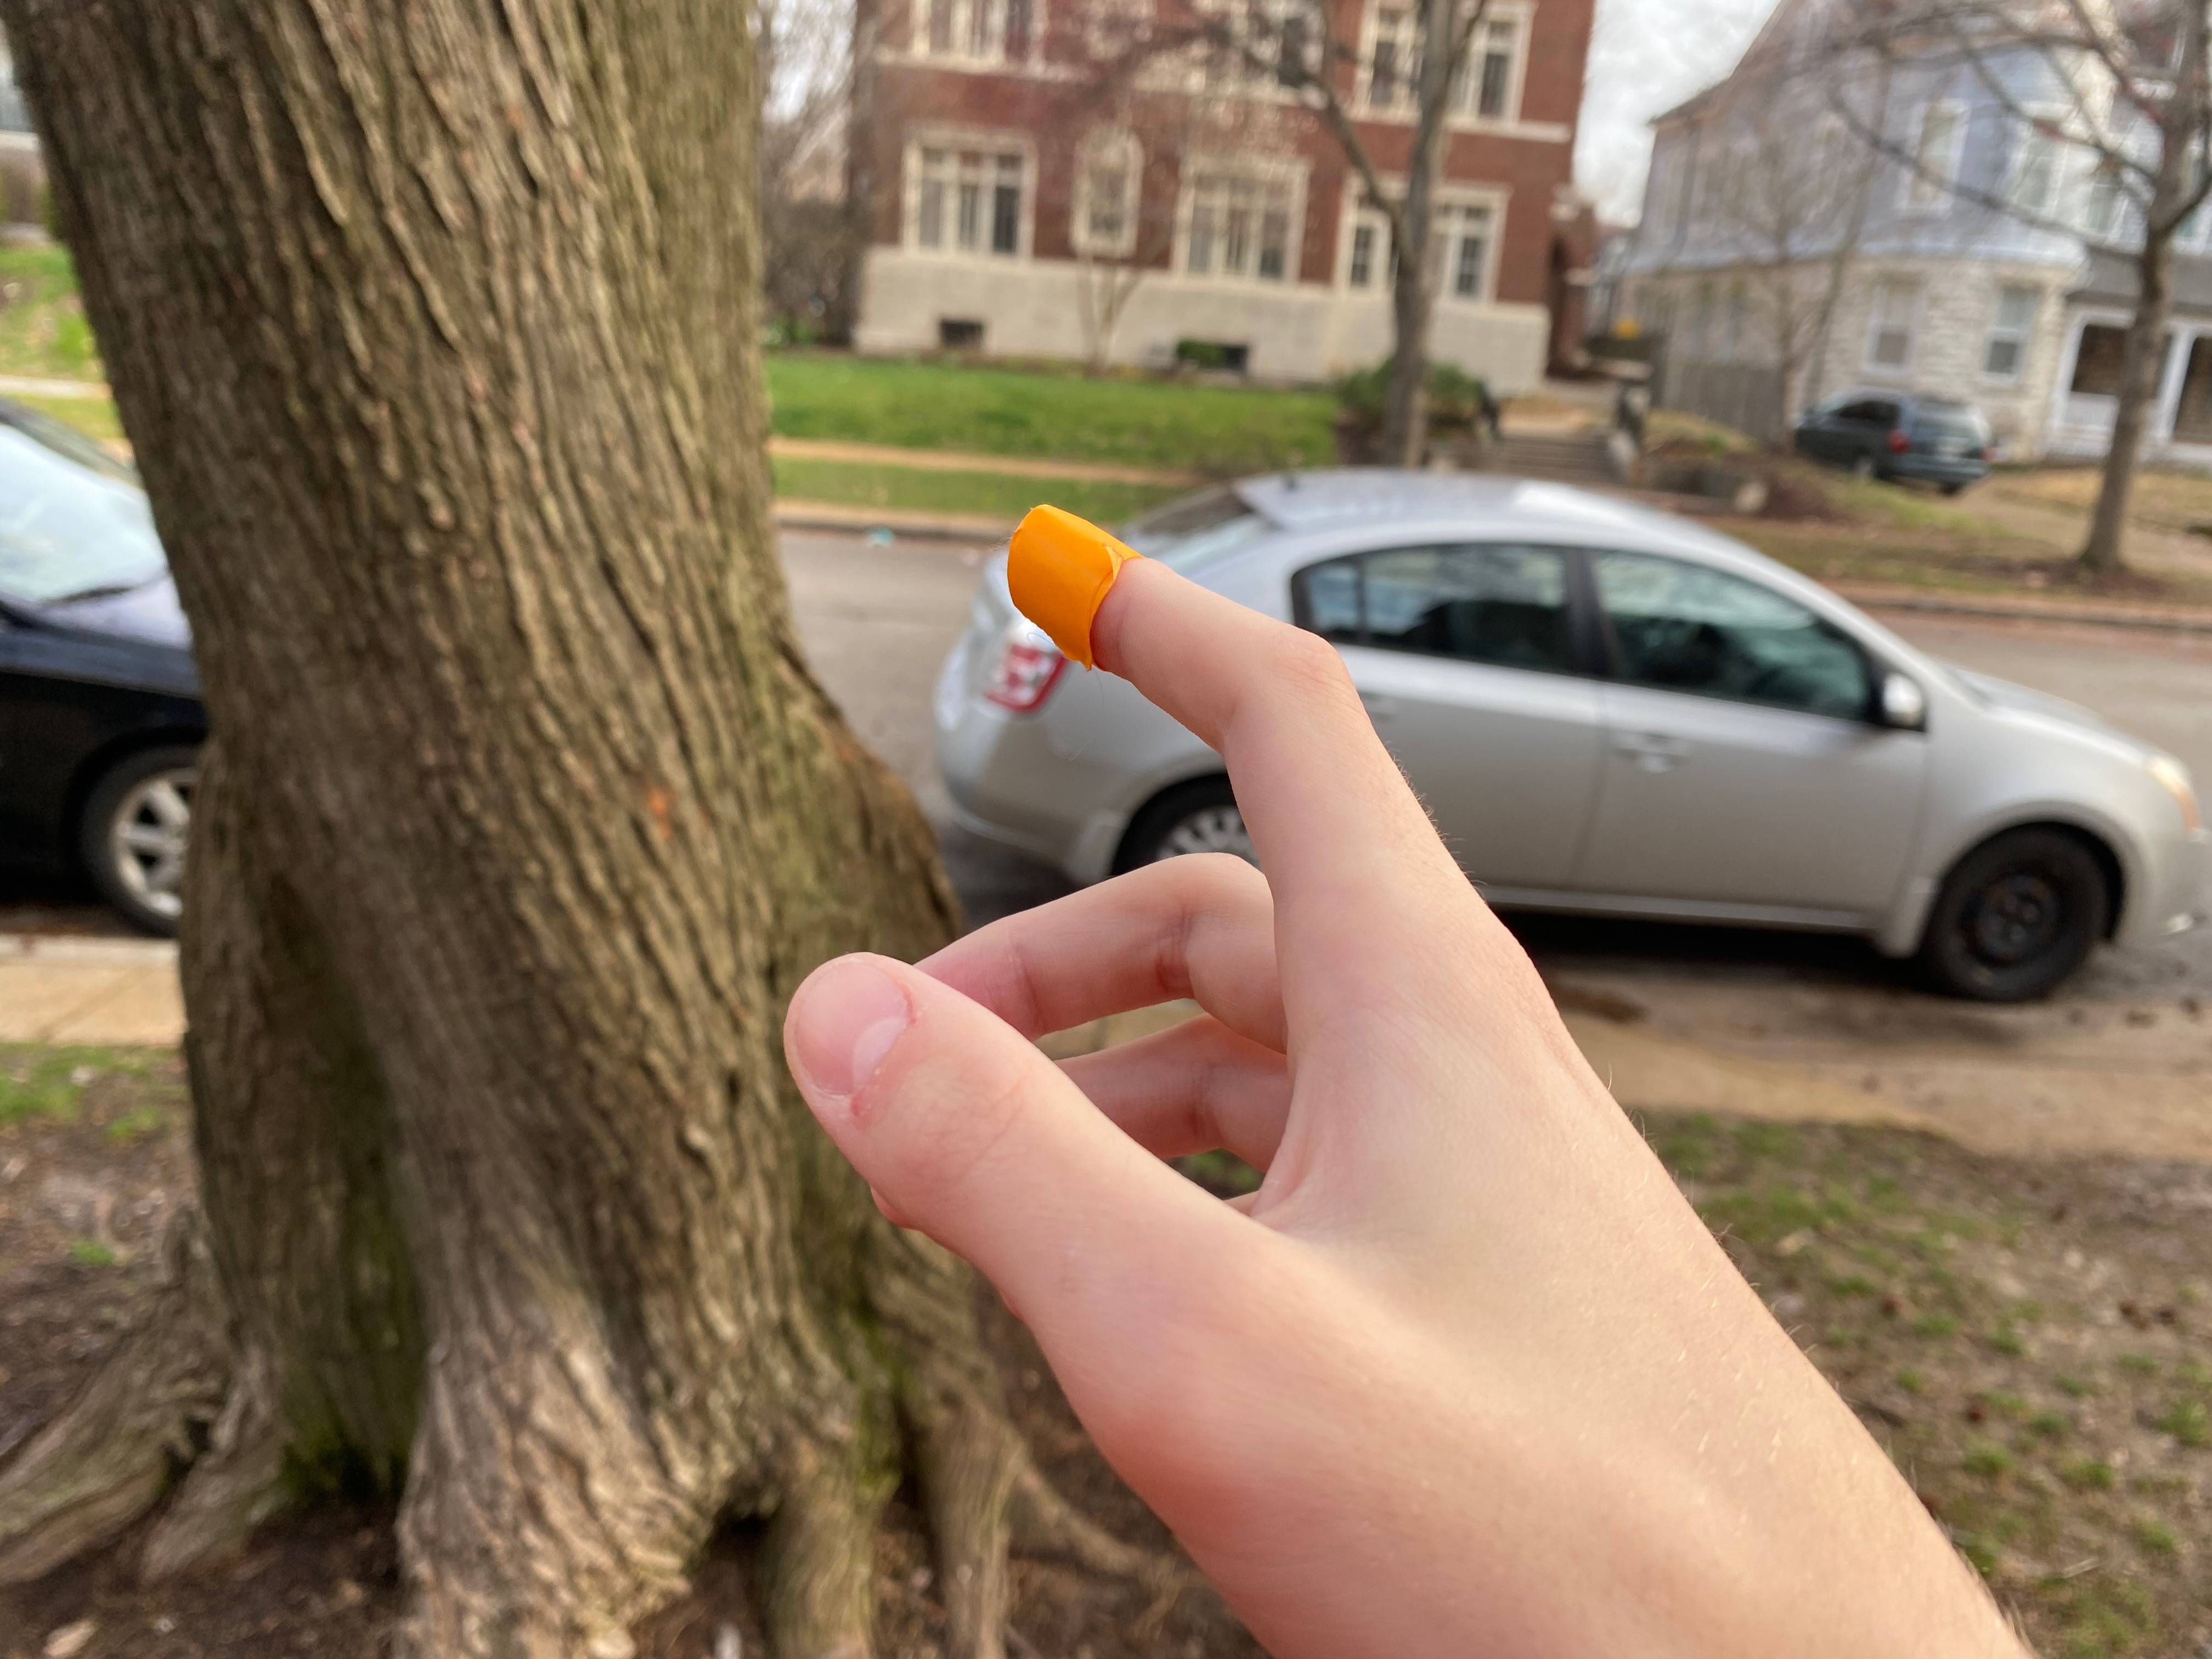fingertip: (965, 488, 1197, 695)
